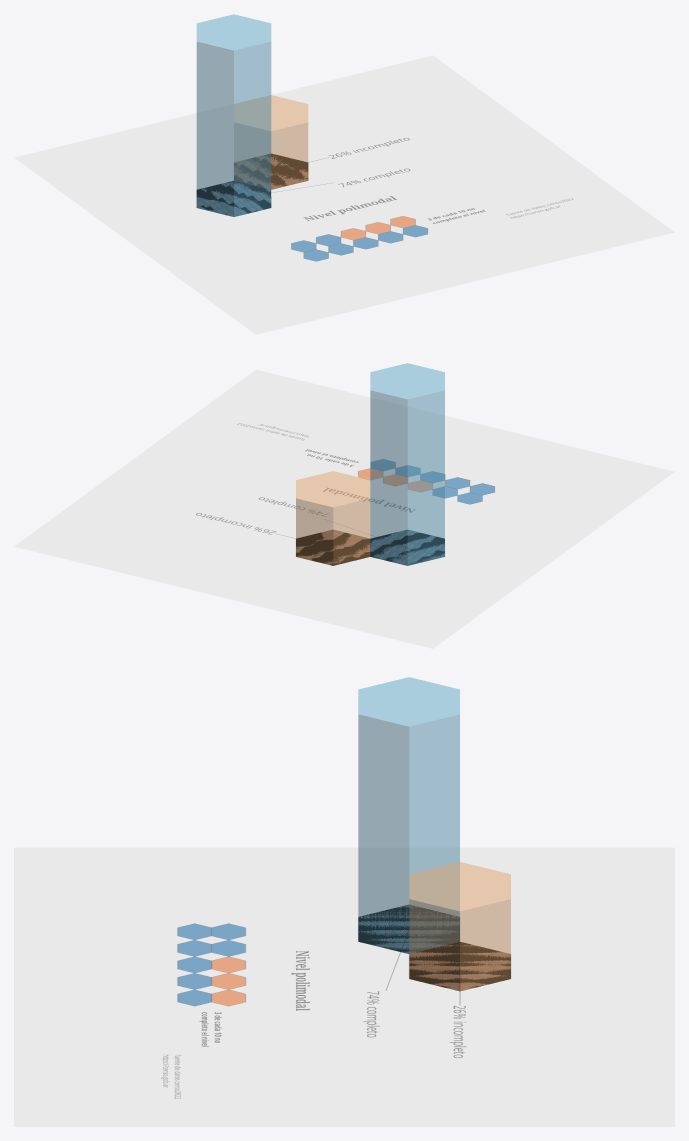
The model's file is polimodal.gltf.
3 renders of one model, top to bottom at view 1: azimuth 30°, elevation 25°; view 2: azimuth 150°, elevation 25°; view 3: azimuth 270°, elevation 25°, orthographic. The views are drawn at different scales.
Visible parts, largest first — view 1: GSI Elevation Tile, barras, etiqueta; view 2: GSI Elevation Tile, barras, etiqueta; view 3: GSI Elevation Tile, barras, etiqueta.
Boxes of the visible parts, x1,y1,x2,y2 form: GSI Elevation Tile: [14, 55, 674, 334]; barras: [196, 14, 308, 216]; etiqueta: [196, 153, 308, 216]; GSI Elevation Tile: [14, 369, 674, 648]; barras: [296, 363, 444, 565]; etiqueta: [296, 530, 444, 565]; GSI Elevation Tile: [14, 847, 674, 1126]; barras: [358, 677, 510, 991]; etiqueta: [358, 905, 510, 990].
Bounding box in the file's own units: 1949 × 740 × 1949.
Materials: 4 (1 with a texture image).
